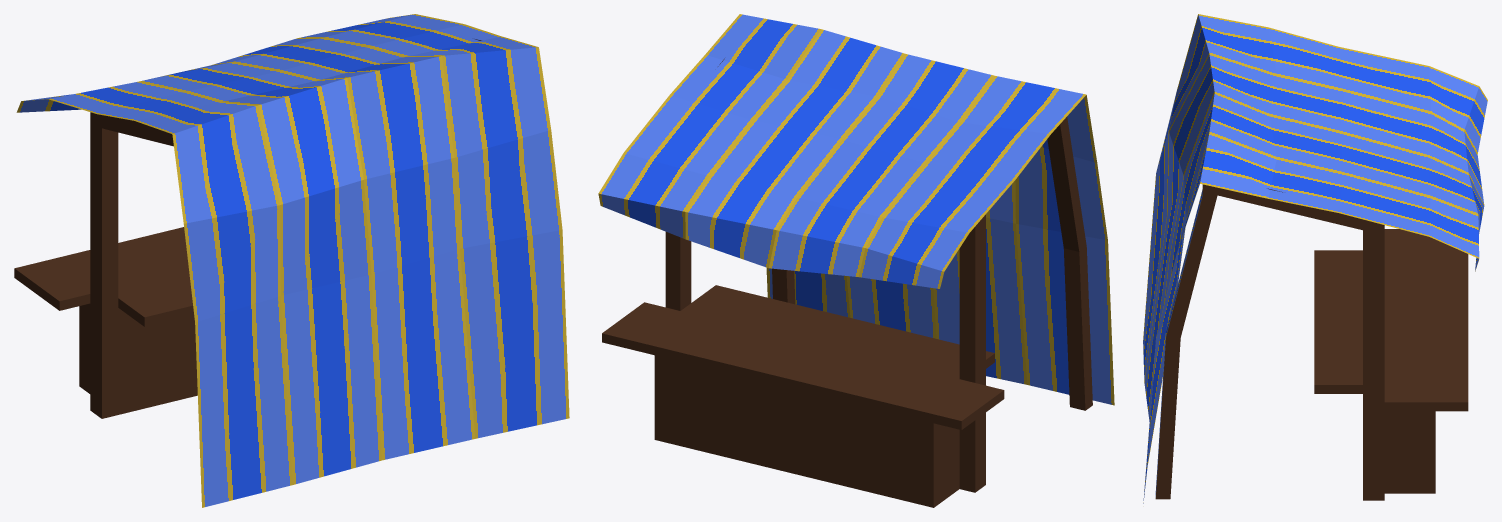
Rendered from TendaTrade.fbx.
3 views of the same model, side by side, from view 1: azimuth 30°, elevation 25°; view 2: azimuth 150°, elevation 25°; view 3: azimuth 270°, elevation 25° (orthographic). The views are drawn at different scales.
Parts seen in each view (by area): view 1: Cube; view 2: Cube; view 3: Cube.
Boxes of the visible parts, x1,y1,x2,y2 form: Cube: [14, 14, 569, 507]; Cube: [598, 14, 1114, 507]; Cube: [1143, 14, 1487, 503].
Bounding box in the file's own units: 258 × 233 × 217.
